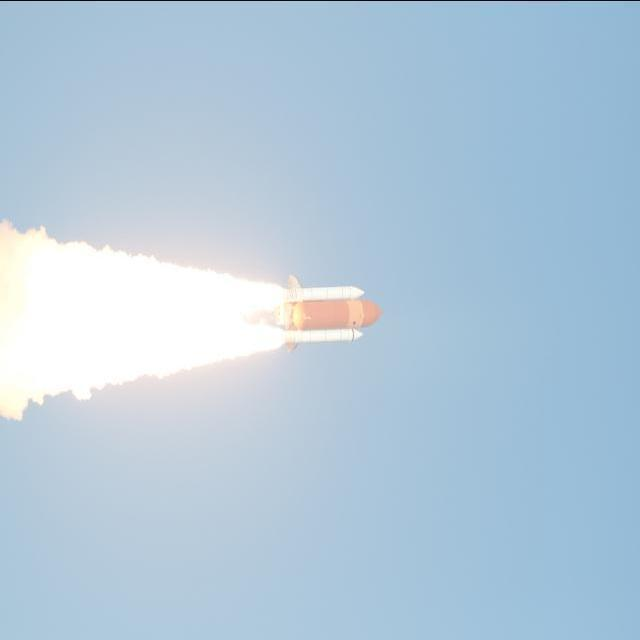missile: (243, 268, 387, 372)
